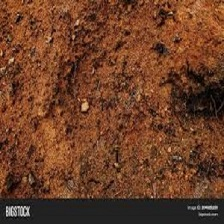clay_soil: (3, 21, 219, 177)
